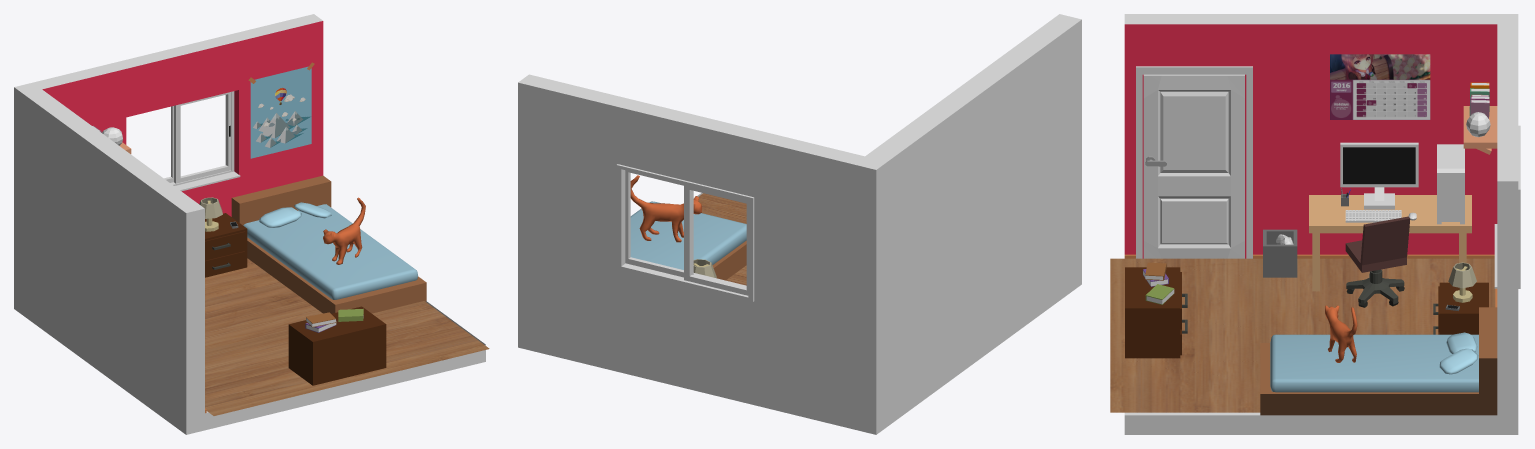
The model's file is low_poly_room4.glb.
The picture shows the model from 3 angles, left to right: view 1: azimuth 30°, elevation 25°; view 2: azimuth 150°, elevation 25°; view 3: azimuth 270°, elevation 25°; orthographic projection. The views are drawn at different scales.
Parts seen in each view (by area): view 1: Cube.002; view 2: Cube.002; view 3: Cube.002.
Boxes of the visible parts, left/top/right/bottom form: Cube.002: left=14, top=14, right=489, bottom=434; Cube.002: left=518, top=14, right=1081, bottom=434; Cube.002: left=1110, top=14, right=1520, bottom=434.
Size of the model in its own units: 75 by 53 by 77.76.
3 materials, 2 textured.
